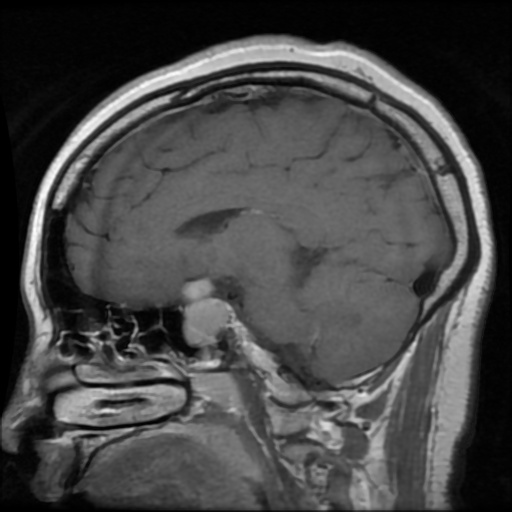pituitary: (182, 280, 227, 344)
